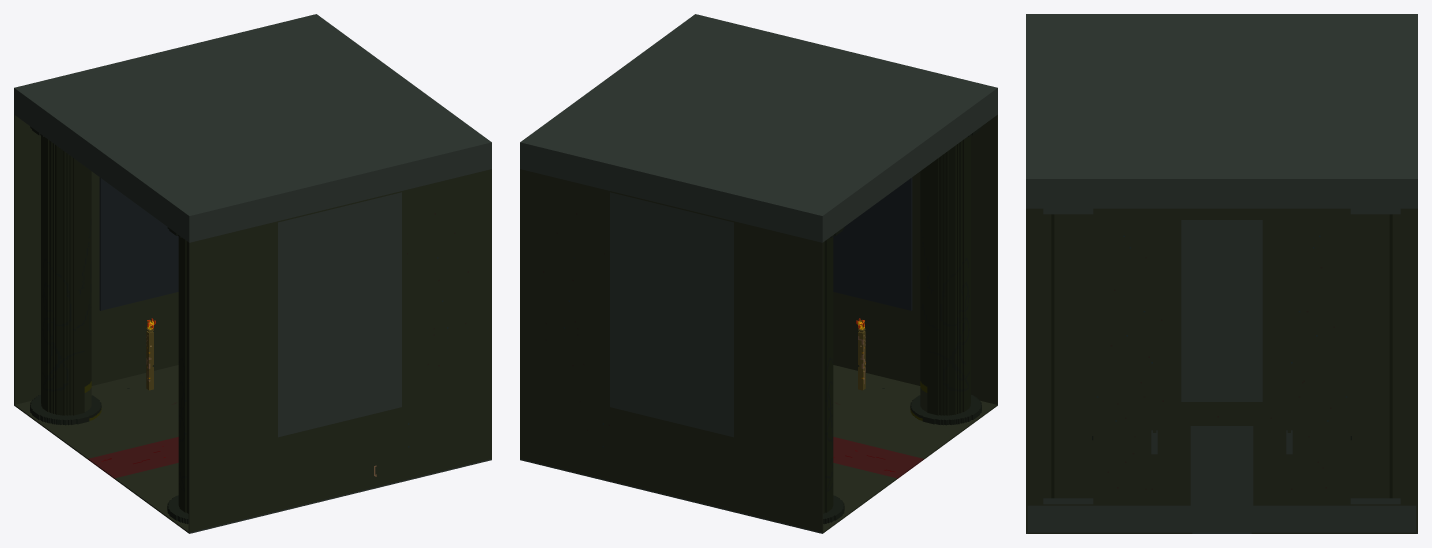
The model's file is throne.obj.
3 views of the same model, side by side, from view 1: azimuth 30°, elevation 25°; view 2: azimuth 150°, elevation 25°; view 3: azimuth 270°, elevation 25° (orthographic). The views are drawn at different scales.
Bounding box in the file's own units: 24.9 × 25 × 25.
Materials: 1 (1 with a texture image).
